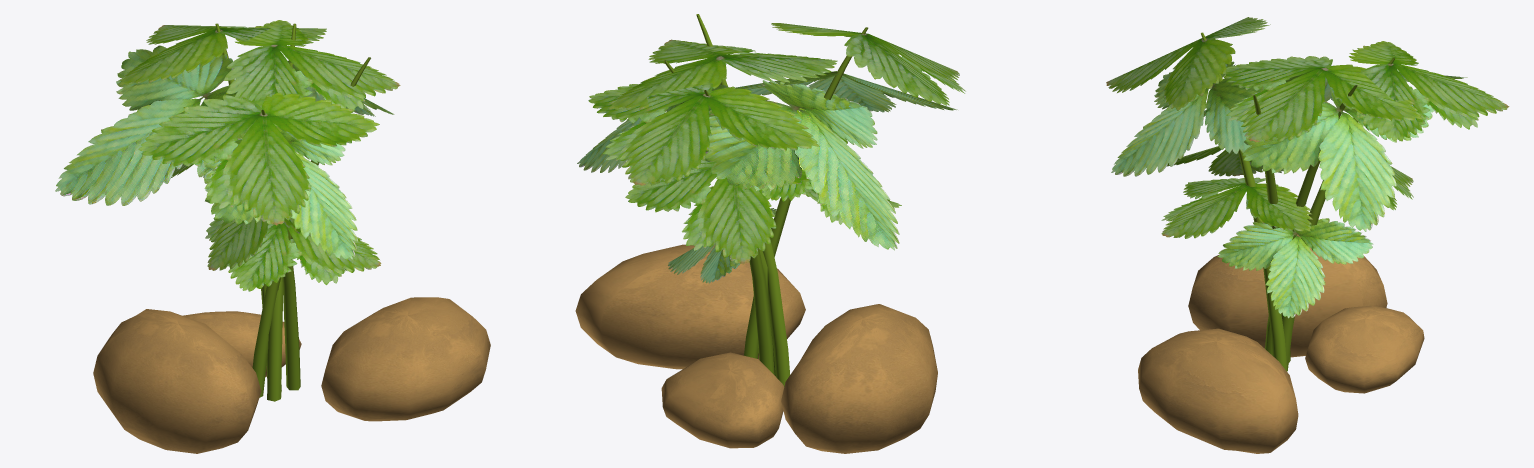
File: PlantDePatates.fbx
3 views of the same model, side by side, from view 1: azimuth 30°, elevation 25°; view 2: azimuth 150°, elevation 25°; view 3: azimuth 270°, elevation 25° (orthographic). The views are drawn at different scales.
Visible parts, largest first — view 1: pSphere4; view 2: pSphere4; view 3: pSphere4.
Part boxes in pixels (x1=…): pSphere4: x1=55, y1=20, x2=490, y2=453; pSphere4: x1=575, y1=14, x2=965, y2=453; pSphere4: x1=1106, y1=17, x2=1509, y2=453.
Bounding box in the file's own units: 87.91 × 79.24 × 95.66.
1 material, 1 textured.
